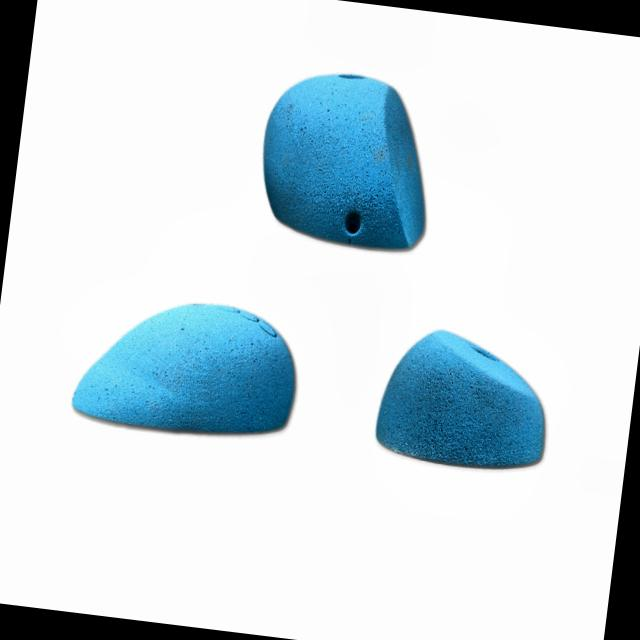Hold: (66, 283, 304, 450), (251, 58, 445, 262), (374, 312, 564, 478)
